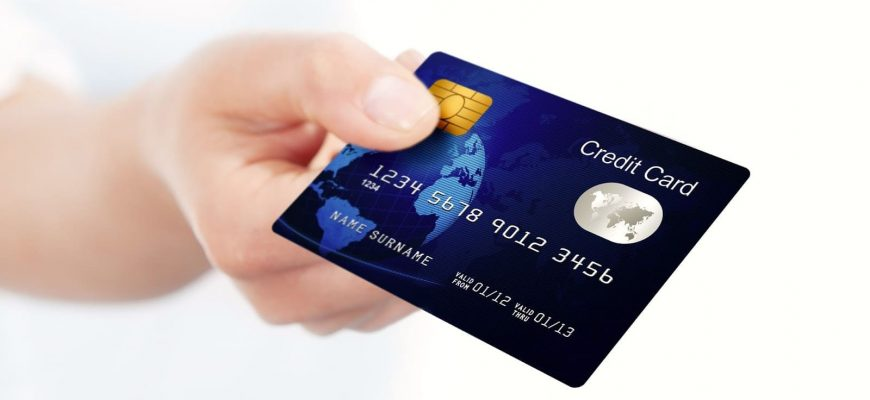card: (270, 50, 751, 389)
